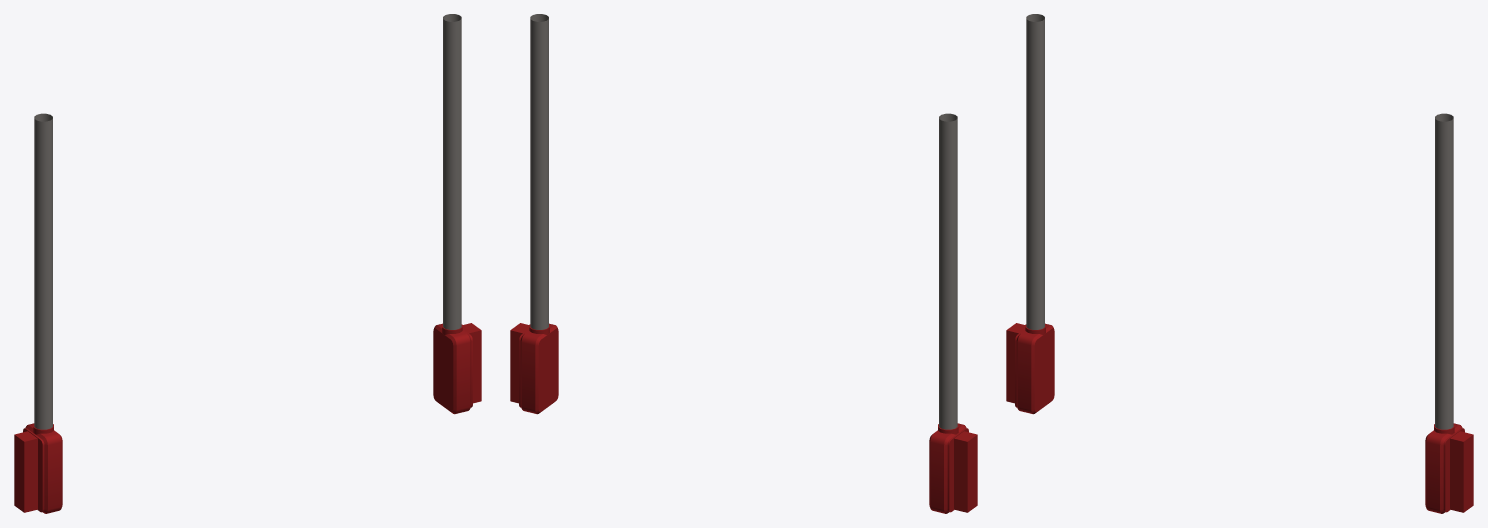
The model's file is SteamLocomotive_01_PistonRod.fbx.
3 renders of one model, left to right at view 1: azimuth 30°, elevation 25°; view 2: azimuth 150°, elevation 25°; view 3: azimuth 330°, elevation 25°, orthographic.
Visible parts, largest first — view 1: SteamLocomotive_01_PistonRod; view 2: SteamLocomotive_01_PistonRod; view 3: SteamLocomotive_01_PistonRod.
Boxes of the visible parts, box(x1,y1,x2,y2) form: SteamLocomotive_01_PistonRod: box(14, 14, 481, 513); SteamLocomotive_01_PistonRod: box(510, 14, 977, 513); SteamLocomotive_01_PistonRod: box(1006, 14, 1473, 513).
Bounding box in the file's own units: 2.74 × 2.23 × 0.232.
